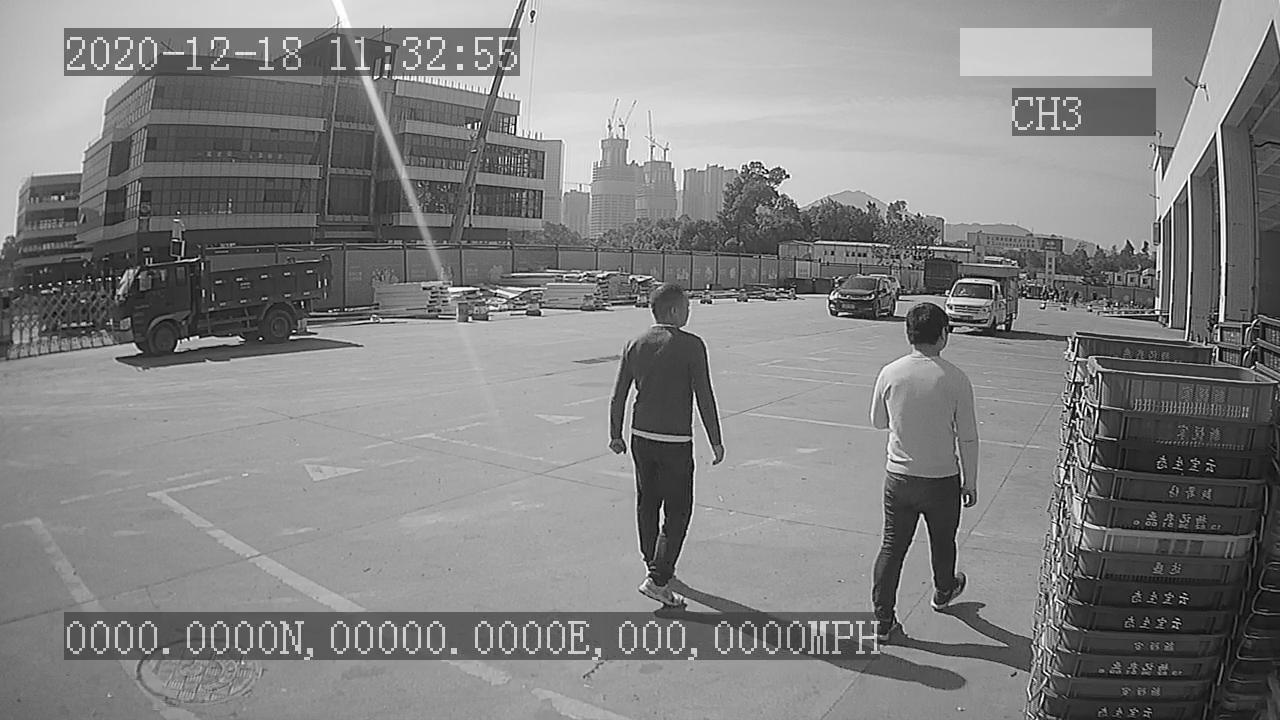person: (607, 279, 730, 608)
